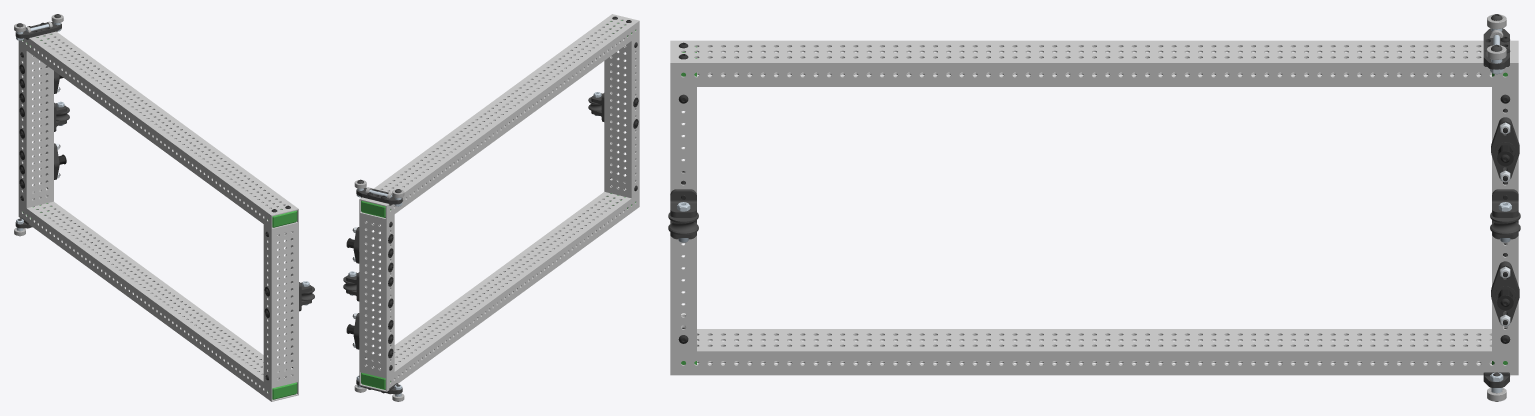
3 views of the same model, side by side, from view 1: azimuth 30°, elevation 25°; view 2: azimuth 150°, elevation 25°; view 3: azimuth 270°, elevation 25° (orthographic). The views are drawn at different scales.
Parts seen in each view (by area): view 1: S2 Side 2x1 Tube 32" (×2), S2 Bottom 2x1 Tube 11" (×2), Bottom Bearing Block Crushblock (×2), Sliding Bearing Block Plate - SLIDE-001; view 2: S2 Side 2x1 Tube 32" (×2), S2 Bottom 2x1 Tube 11" (×2), Bottom Bearing Block Crushblock (×2), Sliding Bearing Block Plate - SLIDE-001; view 3: S2 Side 2x1 Tube 32" (×2), S2 Bottom 2x1 Tube 11" (×2), Ratchet Plate (1/2" Hex) (WCP-0585) (×2), 4mm Dyneema Cable Pulley Bracket ELEV-PULLEY-001 (×2).
Boxes of the visible parts, x1,y1,x2,y2 form: S2 Side 2x1 Tube 32" (×2): [18, 31, 298, 401]; S2 Bottom 2x1 Tube 11" (×2): [18, 45, 298, 387]; Bottom Bearing Block Crushblock (×2): [267, 209, 297, 399]; Sliding Bearing Block Plate - SLIDE-001: [15, 22, 61, 39]; S2 Side 2x1 Tube 32" (×2): [359, 14, 639, 391]; S2 Bottom 2x1 Tube 11" (×2): [359, 35, 639, 377]; Bottom Bearing Block Crushblock (×2): [361, 200, 390, 389]; Sliding Bearing Block Plate - SLIDE-001: [356, 187, 402, 205]; S2 Side 2x1 Tube 32" (×2): [670, 40, 1518, 375]; S2 Bottom 2x1 Tube 11" (×2): [670, 87, 1518, 351]; Ratchet Plate (1/2" Hex) (WCP-0585) (×2): [1491, 117, 1519, 322]; 4mm Dyneema Cable Pulley Bracket ELEV-PULLEY-001 (×2): [670, 189, 1518, 239].
Bounding box in the file's own units: 0.1045 × 0.375 × 0.8166.
